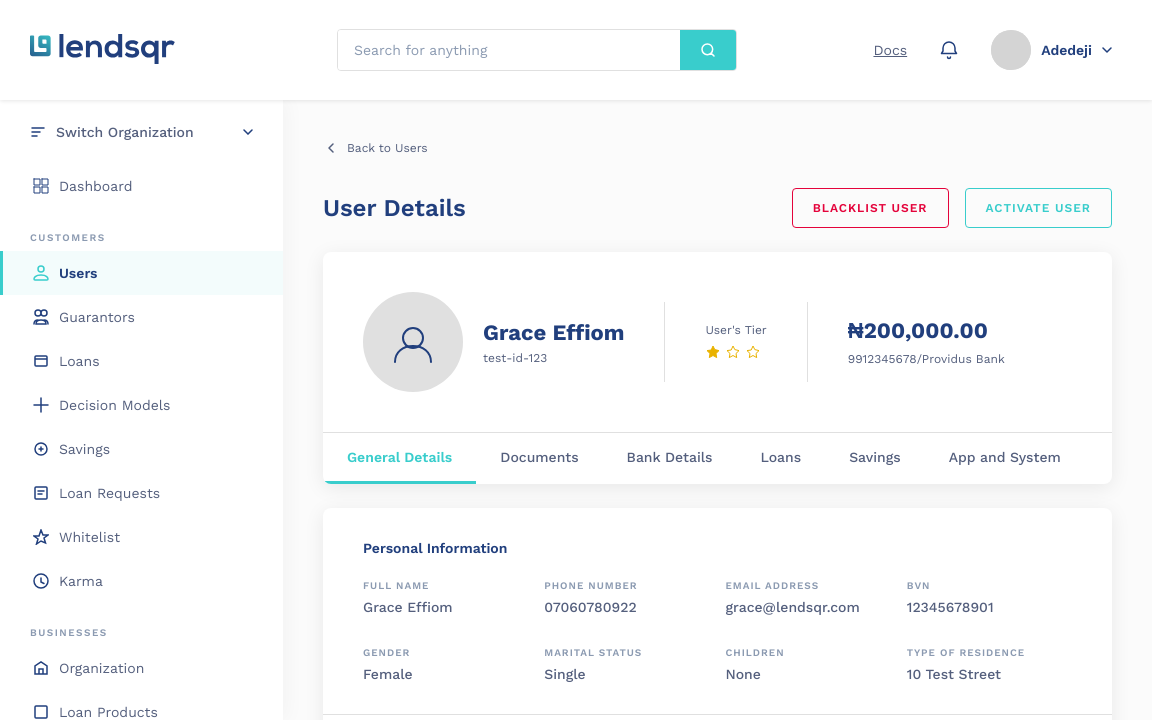
Test: UserDetails Page › switches tab when clicked
What coordinates should you click on to do the following:
click the button "Documents"
I would click on:
 (539, 458)
Its box is top-left (476, 433), bottom-right (603, 484).
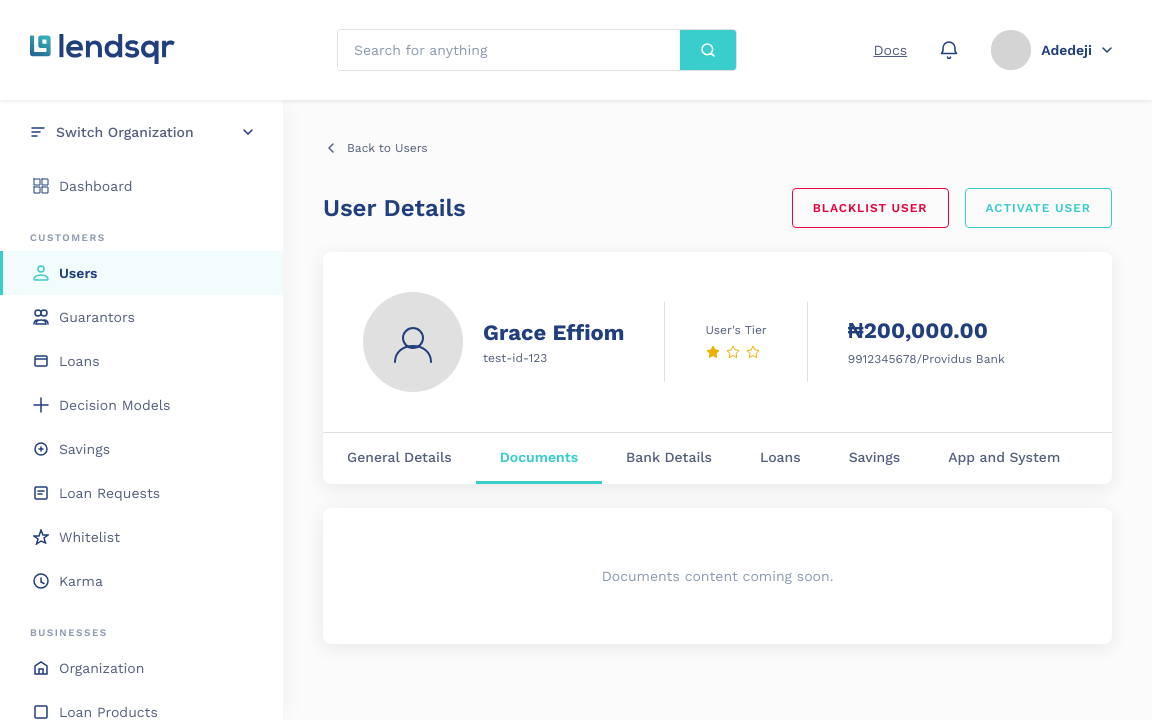
Expected: the text "Documents content coming soon." is shown, top-left (602, 568), bottom-right (833, 584)
